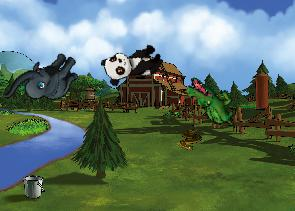crocodile: (178, 75, 246, 130)
elephant: (1, 36, 85, 124)
panda: (99, 39, 166, 88)
